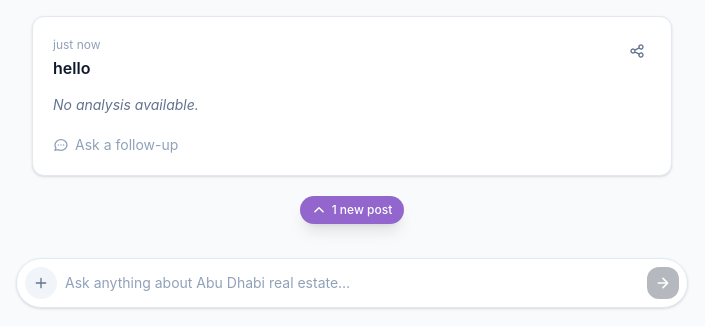
it: FeedPage › clicking new posts badge hides the badge
The image size is (705, 326).
Click the button "1 new post" at (352, 210), box top-left (300, 196), bottom-right (404, 224)
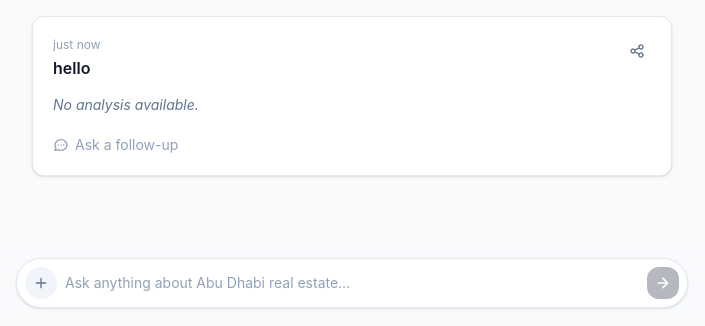
Expected: the button "new post" is gone
